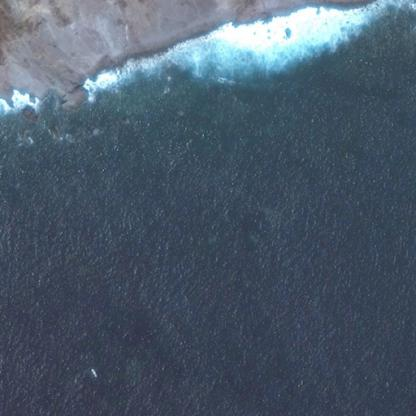ship: (86, 364, 98, 377)
